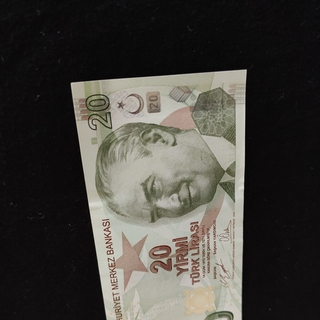20TLFront: (63, 66, 247, 320)
